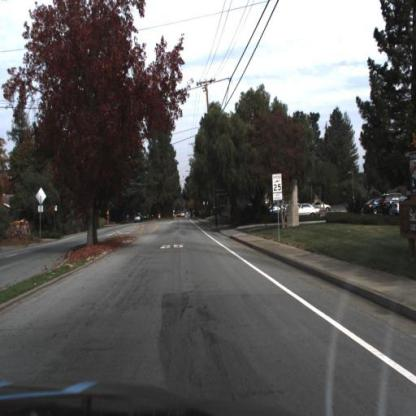car: (296, 201, 325, 222), (298, 204, 323, 220), (133, 211, 144, 224)
